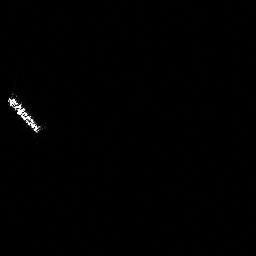ship: (7, 96, 39, 132)
